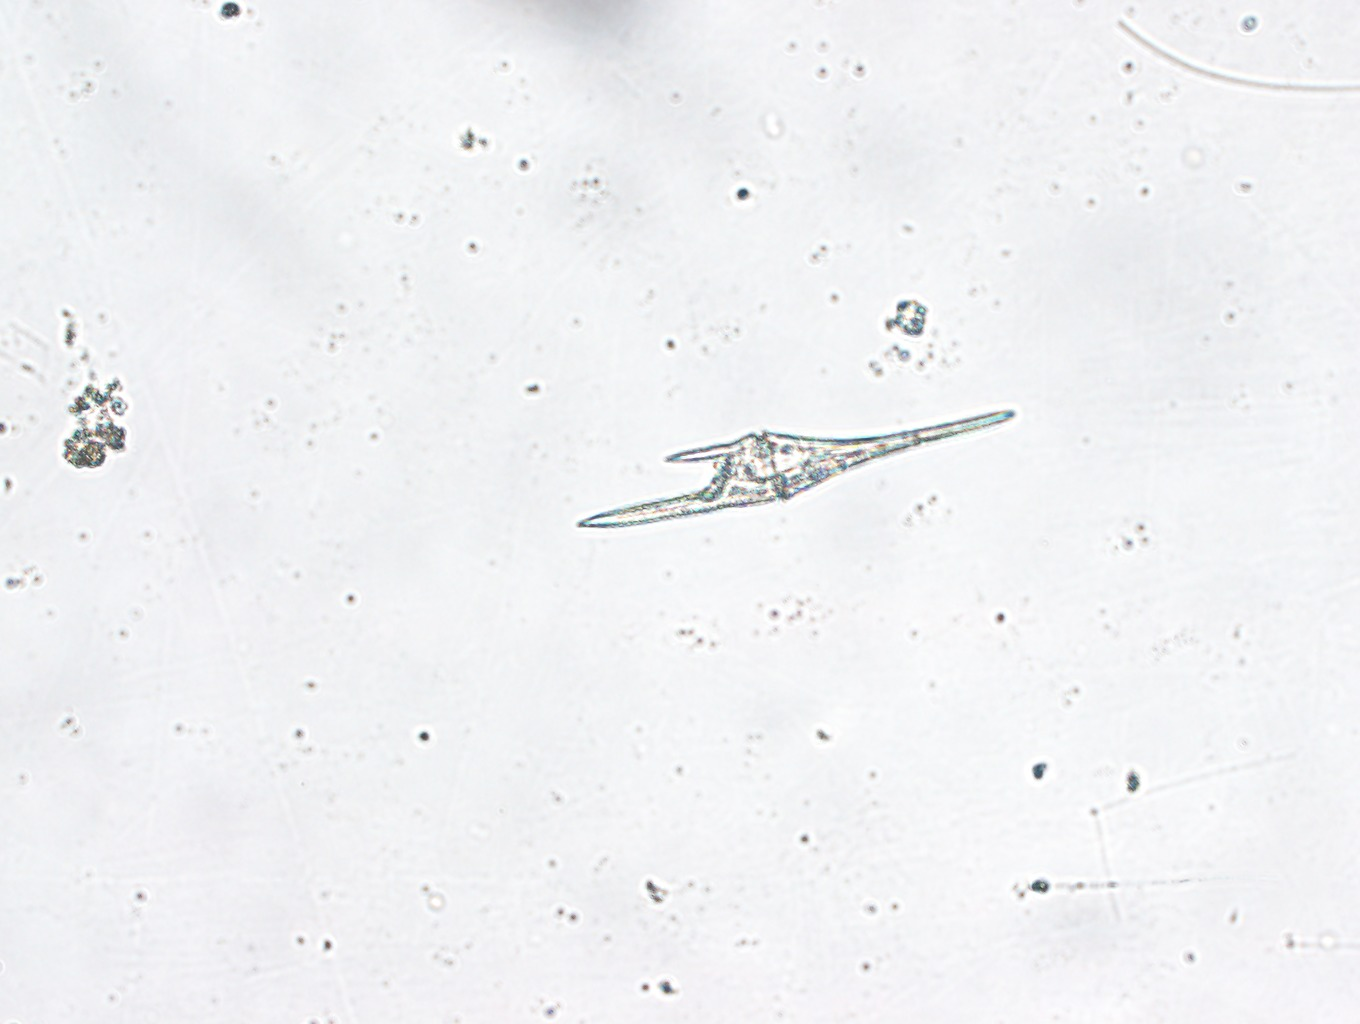ceratium furca: (572, 411, 1017, 532)
